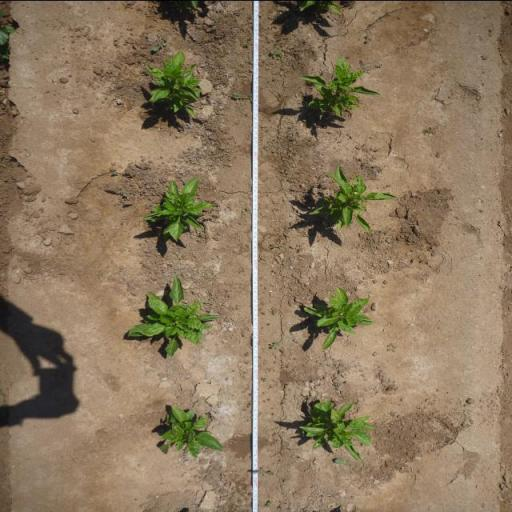plant: (123, 273, 220, 359), (304, 164, 399, 236), (294, 55, 385, 116), (140, 175, 215, 246), (301, 284, 376, 354), (295, 399, 378, 458), (143, 52, 203, 118), (155, 401, 225, 457)
weed: (150, 35, 168, 51), (250, 468, 276, 477), (230, 92, 253, 102), (333, 458, 356, 468), (269, 48, 286, 60), (384, 342, 398, 353), (267, 242, 284, 250), (267, 340, 280, 350), (424, 125, 437, 133), (270, 306, 278, 316), (364, 32, 372, 42), (181, 449, 189, 457), (264, 500, 272, 508), (212, 17, 218, 25), (110, 170, 118, 174)
